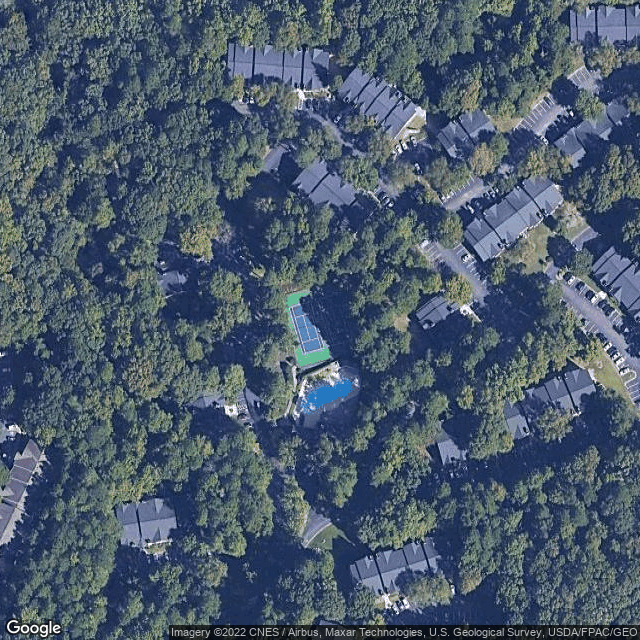Court: (288, 299, 328, 355), (317, 292, 354, 347)
